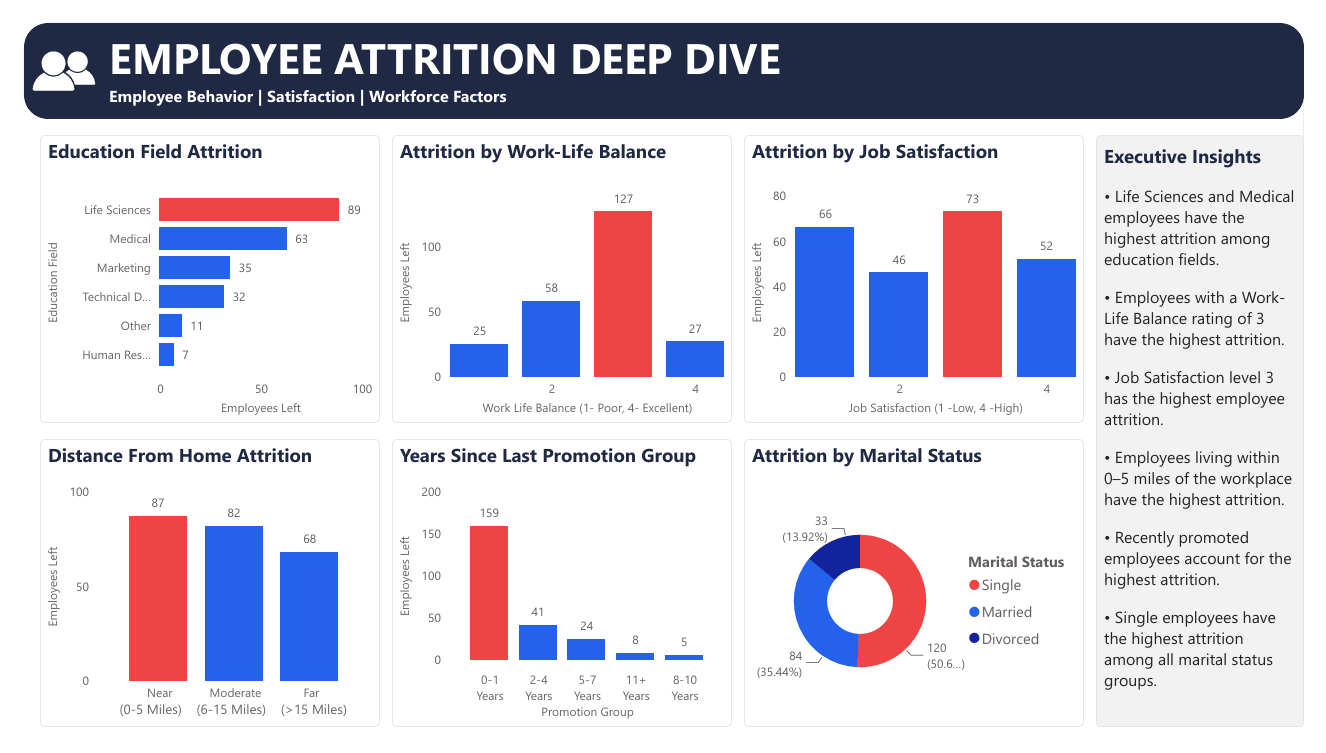

The page's visual inventory and layout, read from the dashboard file:
{"tool":"powerbi","page":{"name":"Employee Attrition Deep Dive","canvas":[1280,720],"ordinal":1},"visuals":[{"type":"shape","box":[0,0,1280,96],"z":0},{"type":"clusteredBarChart","title":"Education Field Attrition","fields":{"Category":["HR_Analytics.Education Field"],"Y":["HR_Analytics.Employees Left"]},"box":[16,112,340,288],"z":1000},{"type":"clusteredColumnChart","title":"Attrition by Job Satisfaction","fields":{"Y":["HR_Analytics.Employees Left"],"Category":["HR_Analytics.Job Satisfaction"]},"box":[720,112,340,288],"z":2000},{"type":"clusteredColumnChart","title":"Attrition by Work-Life Balance","fields":{"Y":["HR_Analytics.Employees Left"],"Category":["HR_Analytics.Work Life Balance"]},"box":[368,112,340,288],"z":3000},{"type":"clusteredColumnChart","title":"Distance From Home Attrition","fields":{"Y":["HR_Analytics.Employees Left"],"Category":["HR_Analytics.Distance From Home Group"]},"box":[16,416,340,288],"z":4000},{"type":"clusteredColumnChart","title":"Years Since Last Promotion Group","fields":{"Y":["HR_Analytics.Employees Left"],"Category":["HR_Analytics.Promotion Group"]},"box":[368,416,340,288],"z":5000},{"type":"textbox","box":[32,672,320,32],"z":6000},{"type":"donutChart","title":"Attrition by Marital Status","fields":{"Category":["HR_Analytics.Marital Status"],"Y":["HR_Analytics.Employees Left"]},"box":[720,416,340,288],"z":7000},{"type":"textbox","box":[80,0,816,96],"z":8000},{"type":"image","box":[0,0,80,96],"z":9000},{"type":"textbox","box":[1072,112,208,592],"z":10000}]}

Visuals, with their boxes in screenshot pixels (x1, y1, x2, y2), scaled from the page's 1280x720 canvas onto the 1326x753 screenshot:
shape: select_region(0, 0, 1325, 100)
"Education Field Attrition" clusteredBarChart: select_region(17, 117, 369, 418)
"Attrition by Job Satisfaction" clusteredColumnChart: select_region(746, 117, 1098, 418)
"Attrition by Work-Life Balance" clusteredColumnChart: select_region(381, 117, 733, 418)
"Distance From Home Attrition" clusteredColumnChart: select_region(17, 435, 369, 736)
"Years Since Last Promotion Group" clusteredColumnChart: select_region(381, 435, 733, 736)
textbox: select_region(33, 703, 365, 736)
"Attrition by Marital Status" donutChart: select_region(746, 435, 1098, 736)
textbox: select_region(83, 0, 928, 100)
image: select_region(0, 0, 83, 100)
textbox: select_region(1111, 117, 1325, 736)
